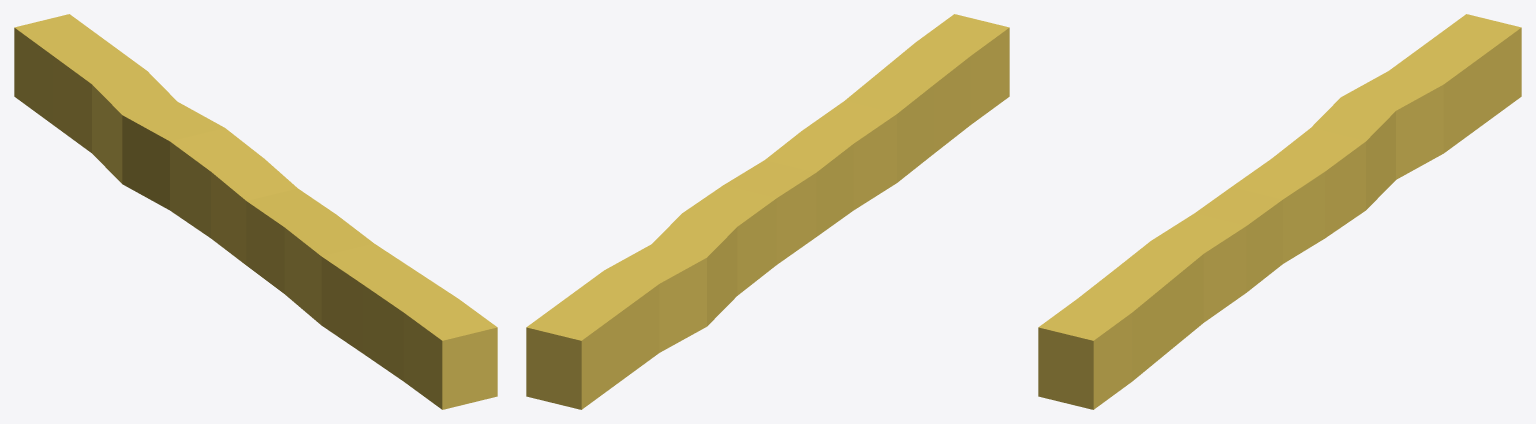
Rendered from 左横木柱3.fbx.
3 views of the same model, side by side, from view 1: azimuth 30°, elevation 25°; view 2: azimuth 150°, elevation 25°; view 3: azimuth 330°, elevation 25° (orthographic).
Parts seen in each view (by area): view 1: L.wood.6; view 2: L.wood.6; view 3: L.wood.6.
Boxes of the visible parts, <box> form: L.wood.6: <box>14,14,497,409</box>; L.wood.6: <box>526,14,1009,409</box>; L.wood.6: <box>1038,14,1521,409</box>.
Bounding box in the file's own units: 62.9 × 64.87 × 728.
